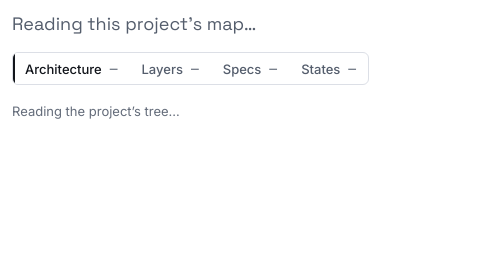
Test: the States view › opens from the map's States door even while the map is unanswered
This screenshot has width=488, height=263.
Click the button "States —" at (329, 69), box [289, 53, 368, 84]
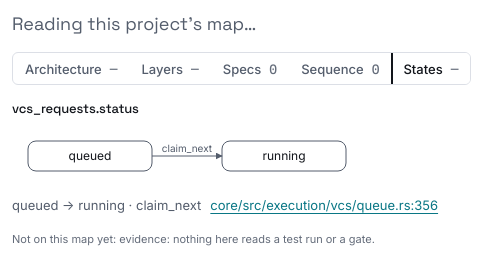
Check: the heading "vcs_requests.status" is shown, box [12, 100, 139, 117]
